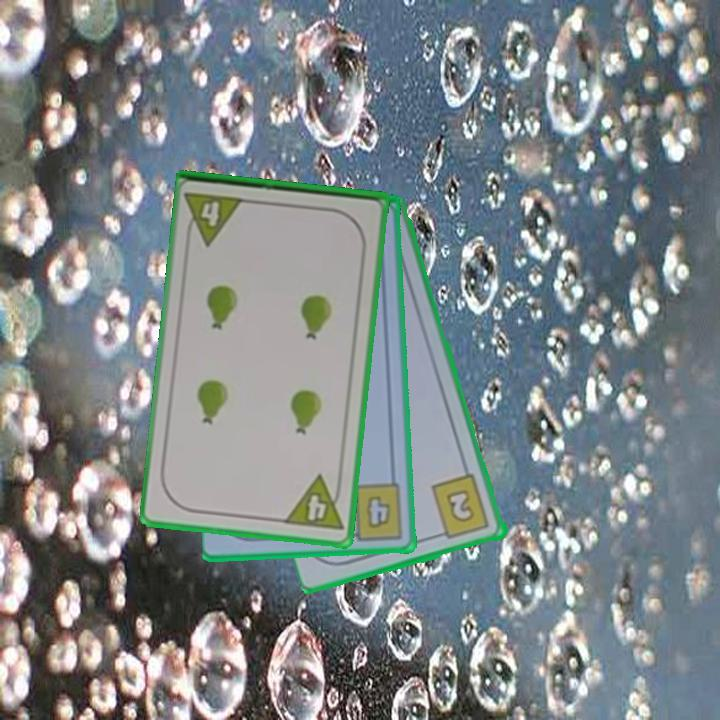2b: (428, 471, 493, 543)
4b: (342, 480, 407, 543)
4p: (281, 472, 346, 534), (182, 188, 248, 248)
